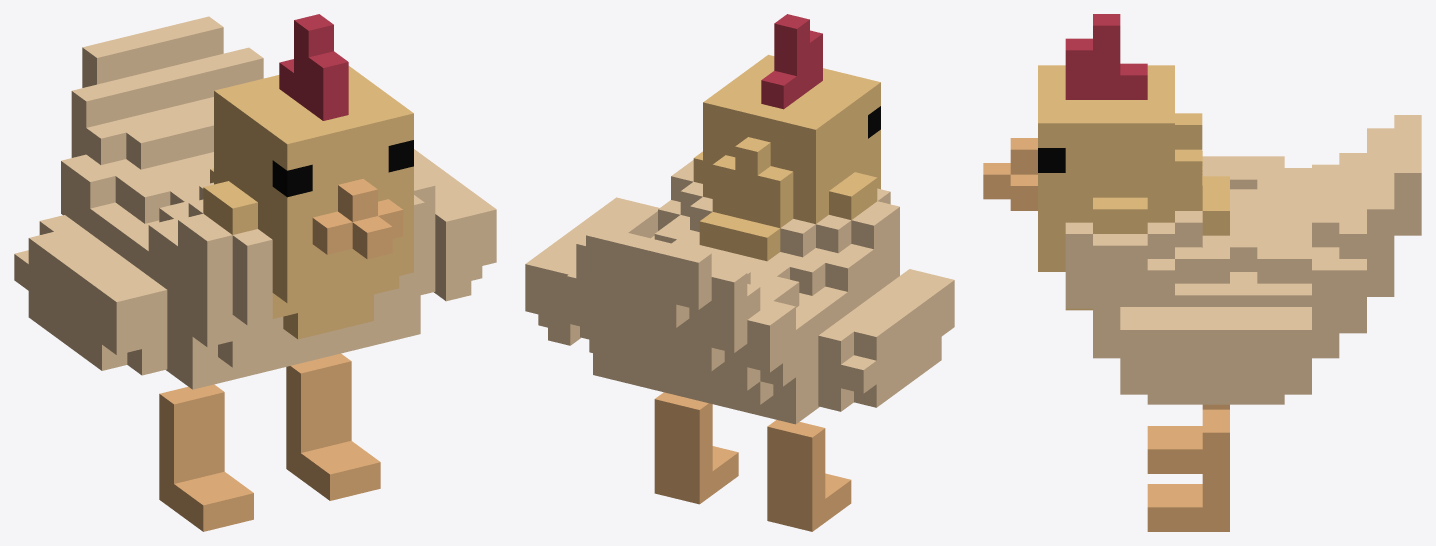
The model's file is Gallina.fbx.
3 renders of one model, left to right at view 1: azimuth 30°, elevation 25°; view 2: azimuth 150°, elevation 25°; view 3: azimuth 270°, elevation 25°, orthographic. The views are drawn at different scales.
Visible parts, largest first — view 1: gallina_15x19x16; view 2: gallina_15x19x16; view 3: gallina_15x19x16.
Part boxes in pixels (x1,y1,x2,y2): gallina_15x19x16: (14,14,496,531); gallina_15x19x16: (525,14,954,531); gallina_15x19x16: (983,14,1421,531).
Bounding box in the file's own units: 833 × 1056 × 889.
